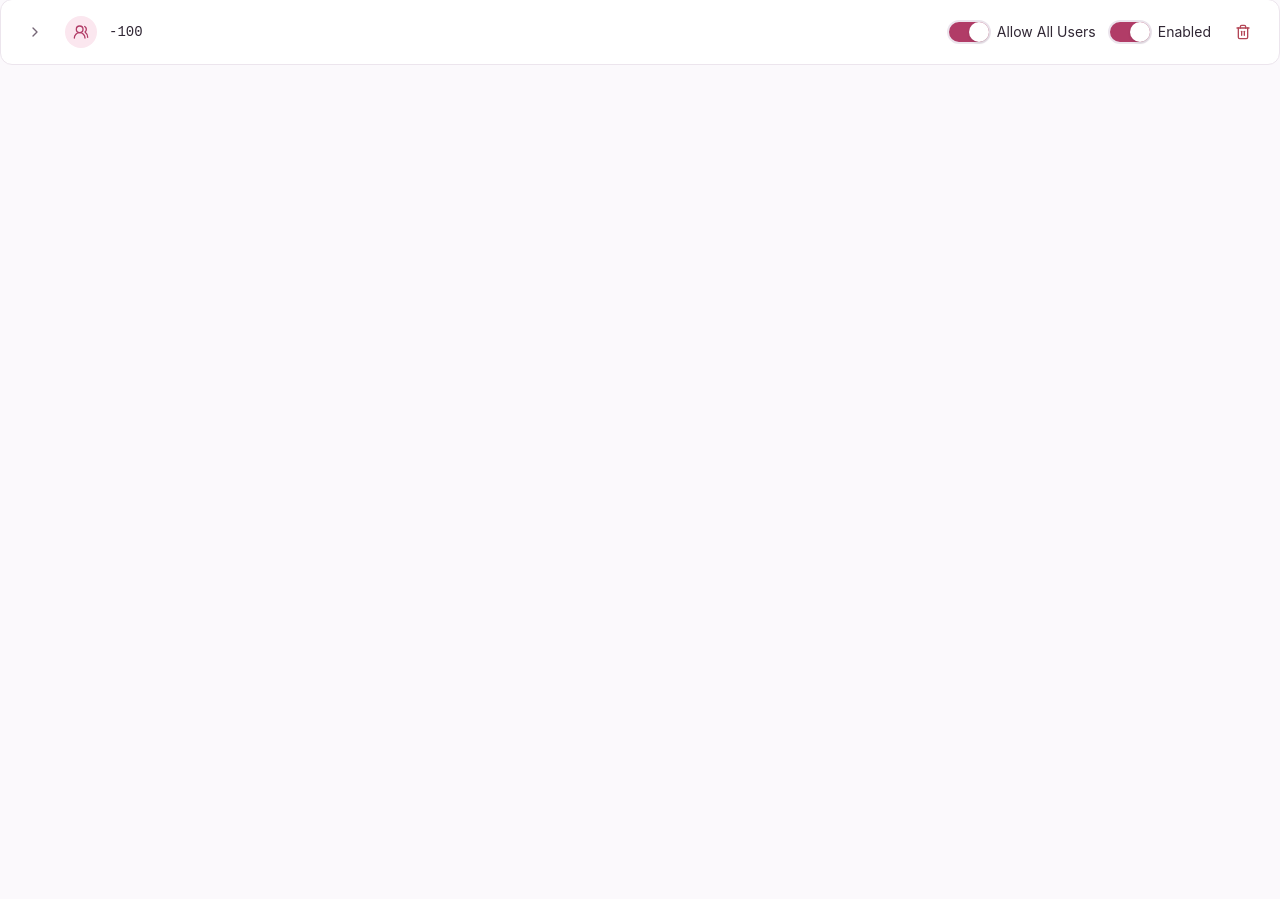
Test case: warns when a group override exceeds the default history budget
Click the button named "Expand group settings": (35, 32) [17,14,53,50]
(page scrolled)
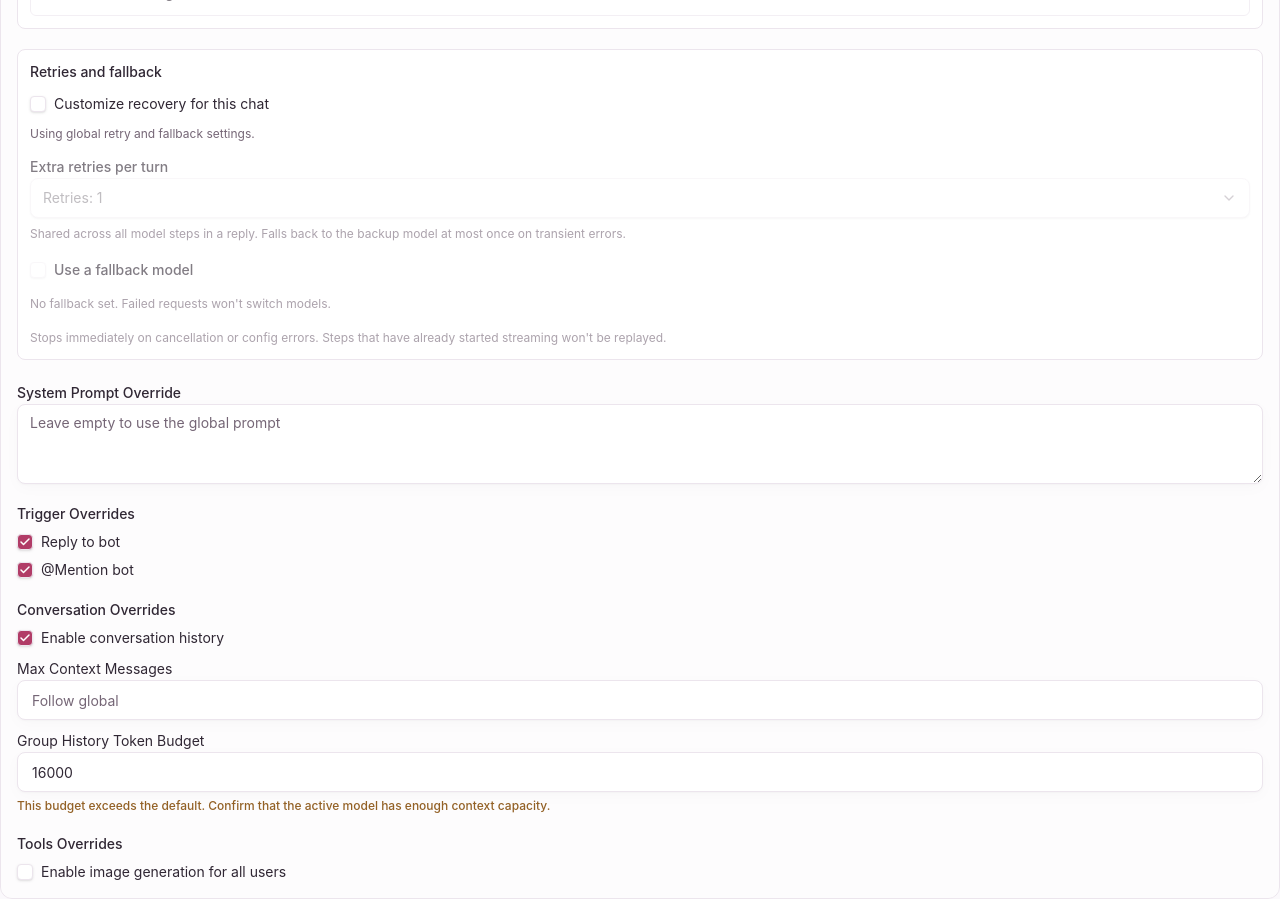
Check: the text "This budget exceeds the default" is shown, box [17,798,550,813]
